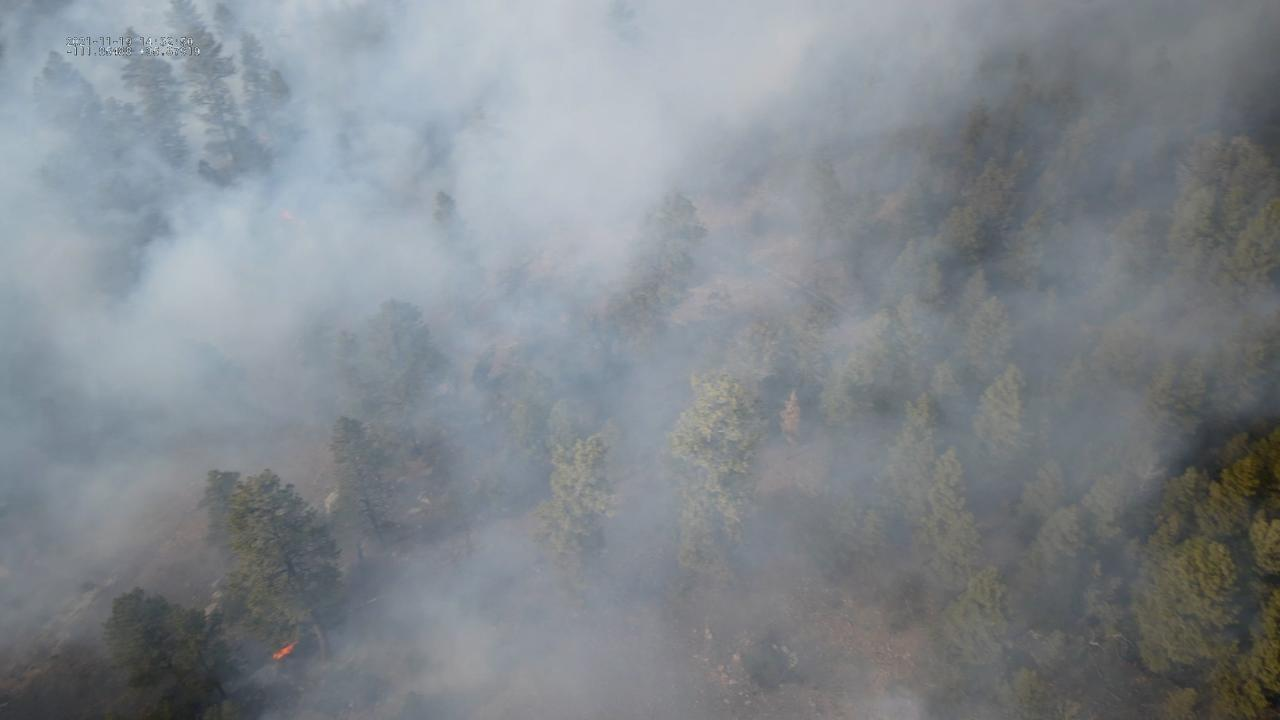fire: (270, 639, 298, 661)
smoke: (0, 0, 1280, 720)
